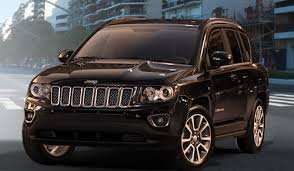mobil: (19, 13, 277, 159)
